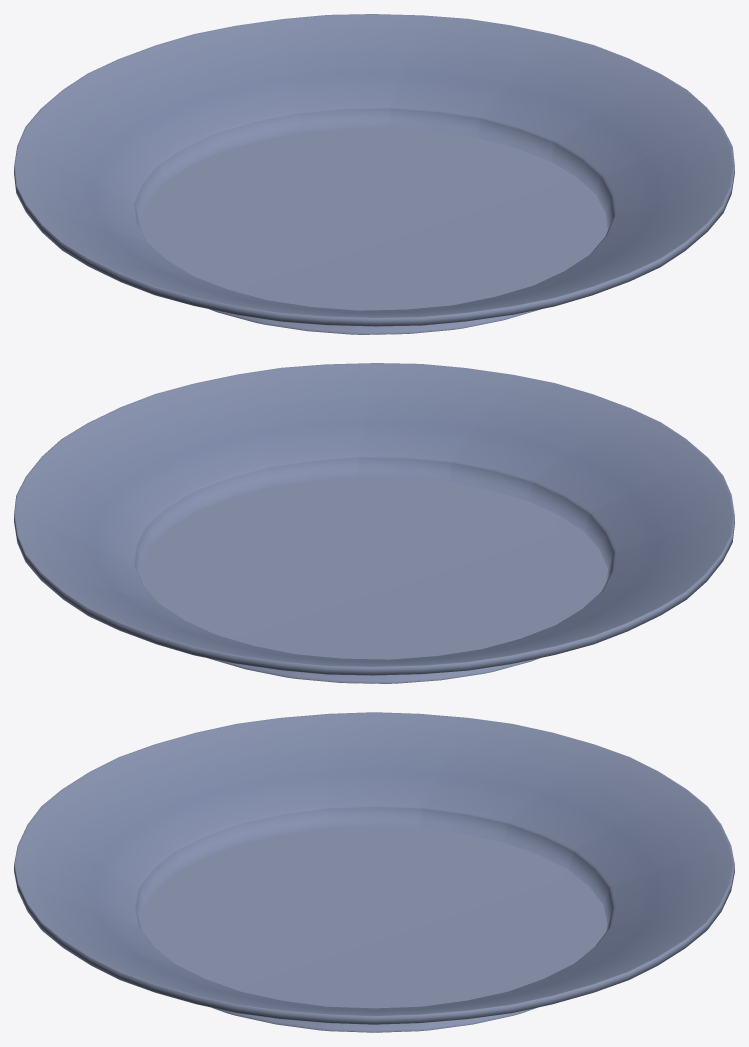
Rendered from Plate.fbx.
3 renders of one model, top to bottom at view 1: azimuth 30°, elevation 25°; view 2: azimuth 150°, elevation 25°; view 3: azimuth 270°, elevation 25°, orthographic.
Visible parts, largest first — view 1: Plate; view 2: Plate; view 3: Plate.
Boxes of the visible parts, box(x1,y1,x2,y2) form: Plate: box(14, 14, 734, 334); Plate: box(14, 363, 734, 683); Plate: box(14, 712, 734, 1032).
Size of the model in its own units: 329 by 31.86 by 329.
